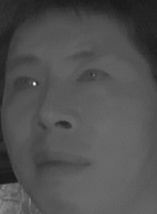eye: (74, 65, 112, 89), (10, 71, 42, 95)
mouth: (30, 146, 91, 185)
